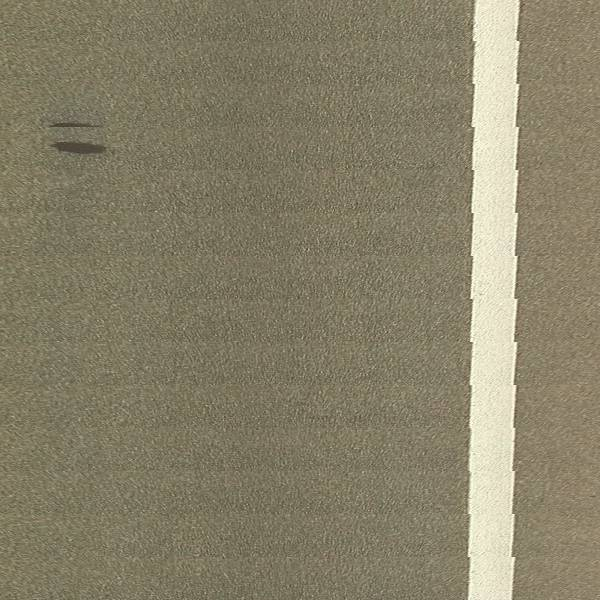road_damage: (46, 137, 109, 160)
